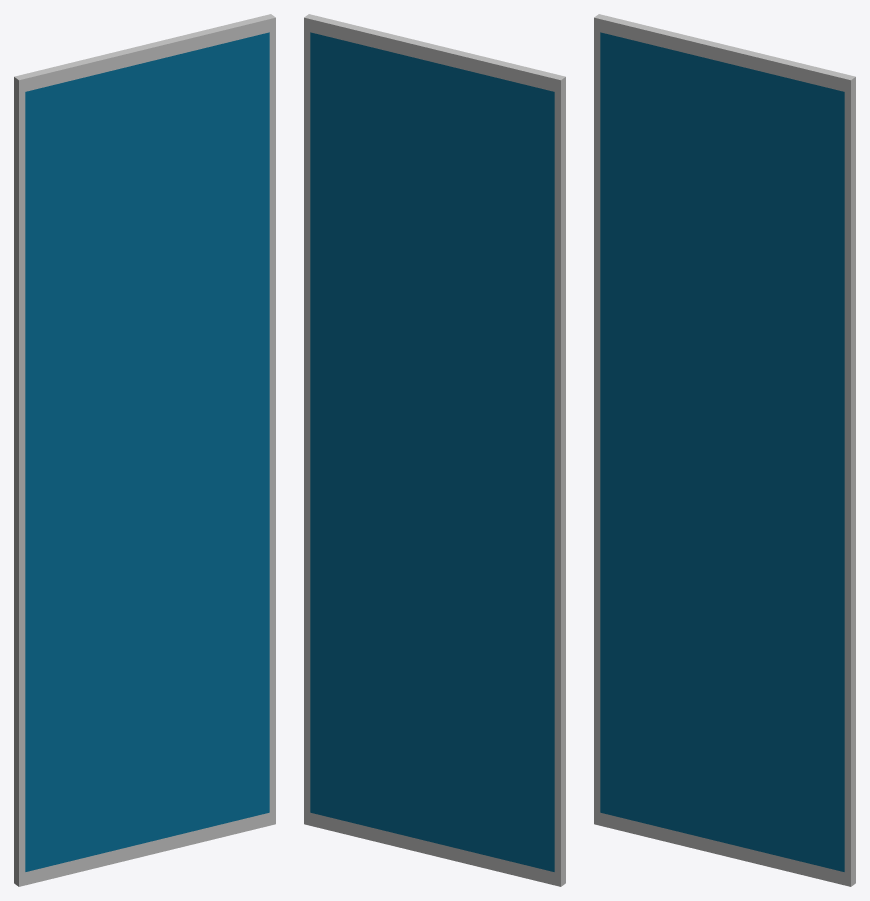
File: PTABANIO60cm.fbx
3 views of the same model, side by side, from view 1: azimuth 30°, elevation 25°; view 2: azimuth 150°, elevation 25°; view 3: azimuth 330°, elevation 25° (orthographic).
Parts seen in each view (by area): view 1: PTABANIO60cm; view 2: PTABANIO60cm; view 3: PTABANIO60cm.
Part boxes in pixels (<box>): PTABANIO60cm: <box>14,14,275,886</box>; PTABANIO60cm: <box>304,14,565,886</box>; PTABANIO60cm: <box>594,14,855,886</box>.
Bounding box in the file's own units: 60 × 180 × 2.
